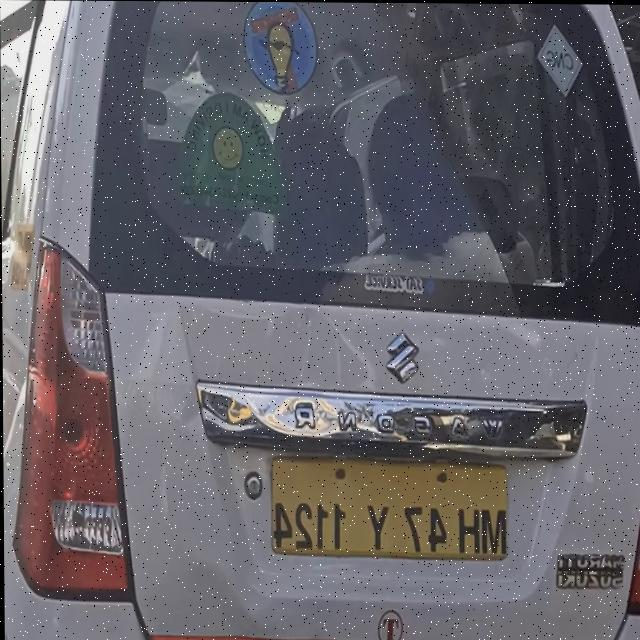plate: (267, 451, 509, 561)
